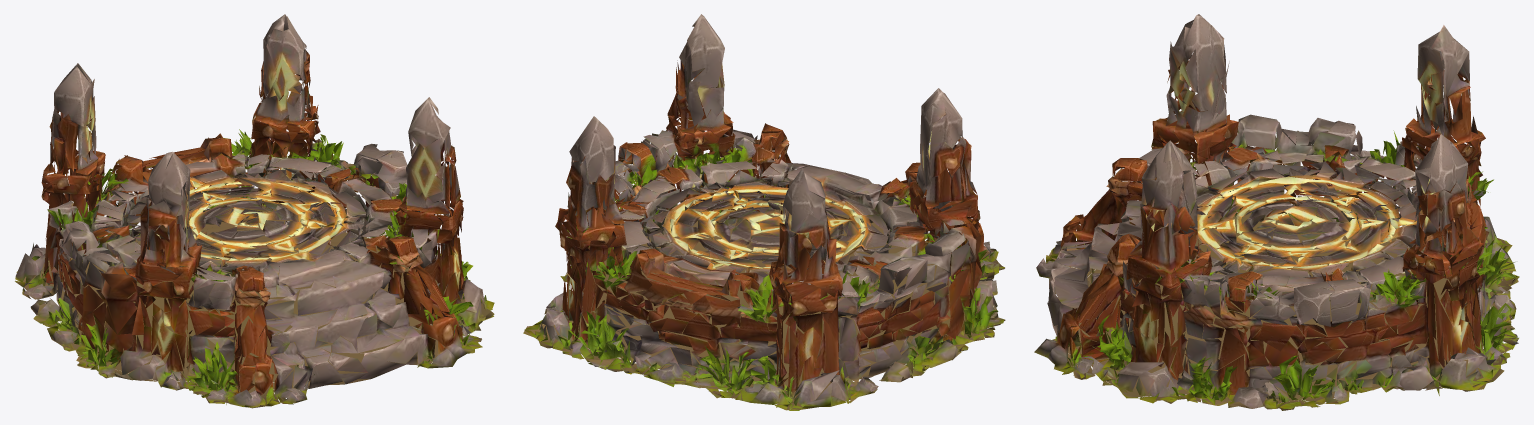
The model's file is Runestone_Altar_town.glb.
3 renders of one model, left to right at view 1: azimuth 30°, elevation 25°; view 2: azimuth 150°, elevation 25°; view 3: azimuth 270°, elevation 25°, orthographic. The views are drawn at different scales.
Parts seen in each view (by area): view 1: Runestone_Altar; view 2: Runestone_Altar; view 3: Runestone_Altar.
Boxes of the visible parts, <box> form: Runestone_Altar: <box>15,14,494,408</box>; Runestone_Altar: <box>523,14,1005,410</box>; Runestone_Altar: <box>1034,14,1519,410</box>.
Bounding box in the file's own units: 1.89 × 1.02 × 1.87.
1 material, 1 textured.
